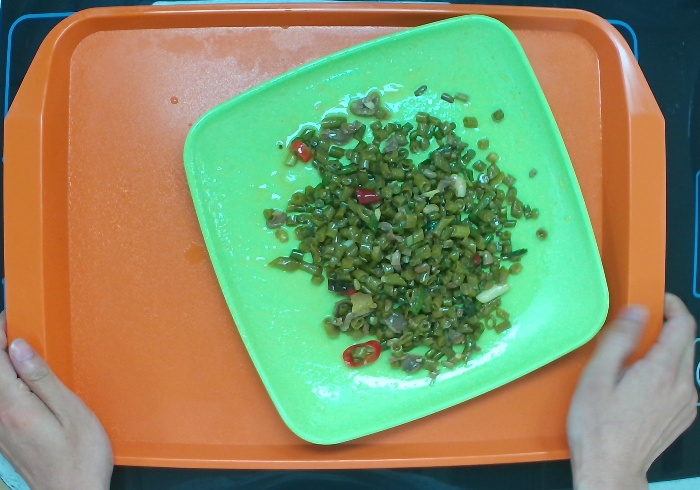ZNLD-Lv_Fang_Pan: (182, 16, 611, 449)
